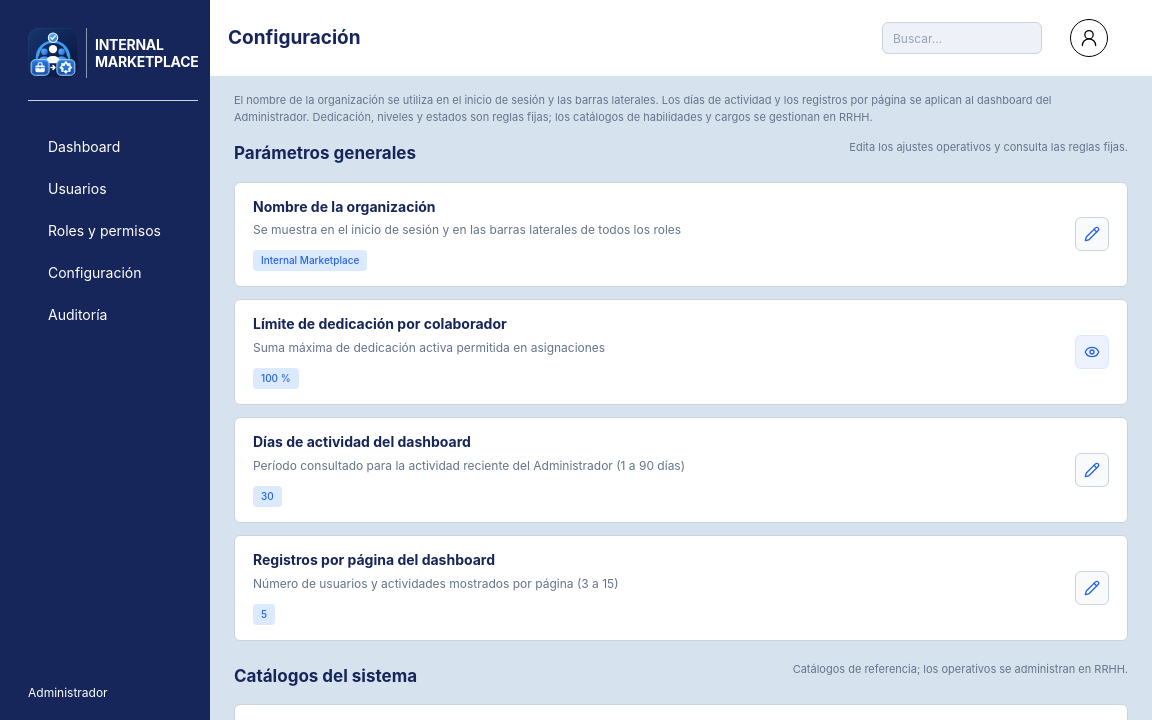
it: Roles, permisos y configuración de Administración › muestra el ojo en reglas fijas y abre su detalle sin editarlo
Click the button named "Consultar Límite de dedicación por colaborador": (1092, 352) [1075,336,1109,370]
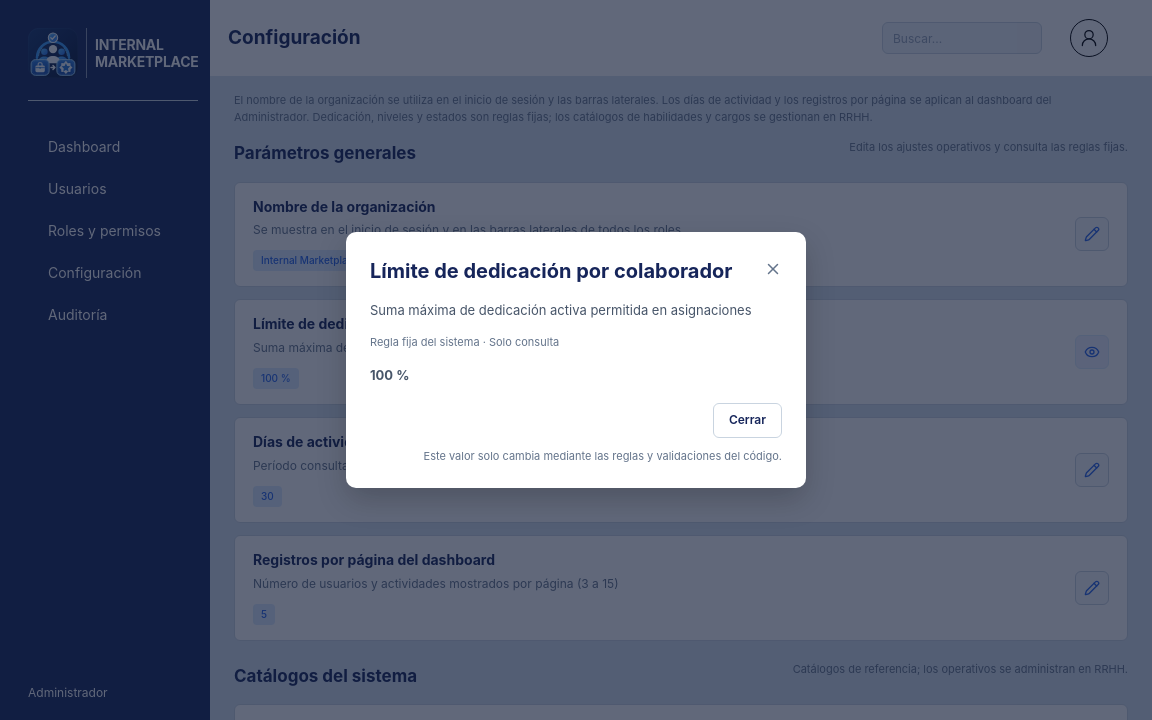
Expected: the button named "Editar Días de actividad del dashboard" is shown, [1075,454,1109,488]
Expected: the text "100 %" is shown, [370,367,409,383]
